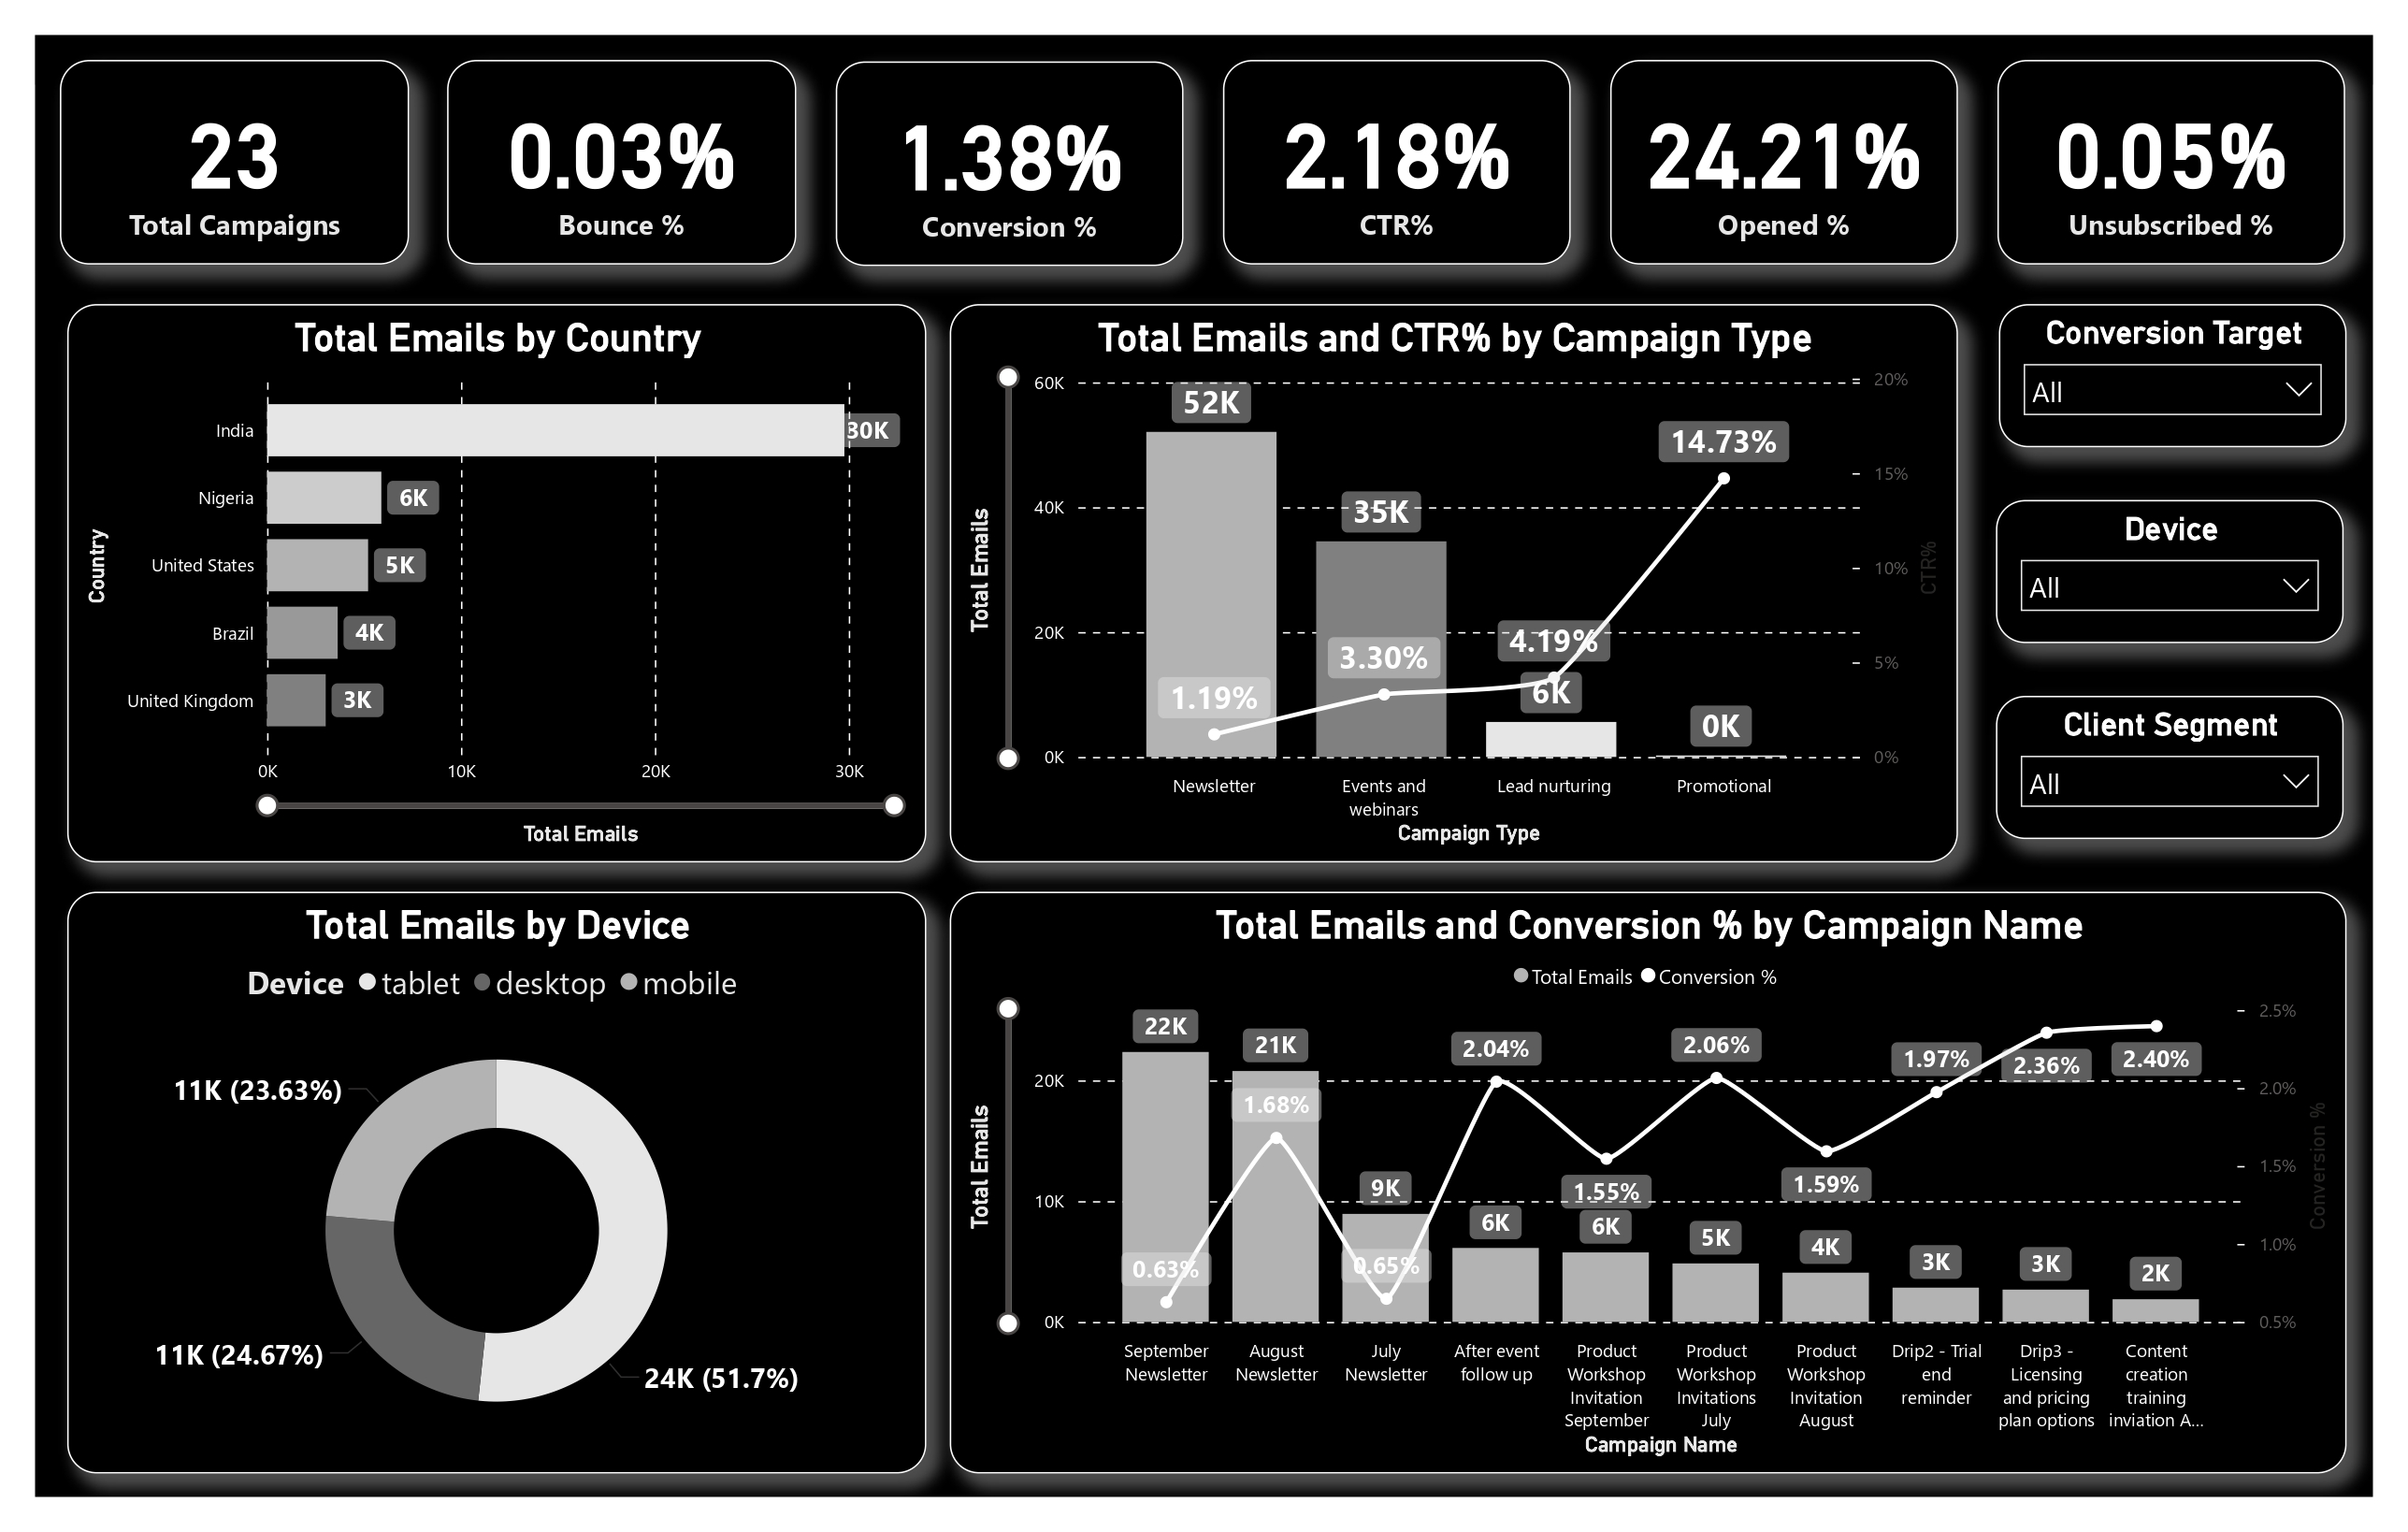

The page's visual inventory and layout, read from the dashboard file:
{"tool":"powerbi","page":{"name":"Overview","canvas":[1600,1000],"ordinal":0},"visuals":[{"type":"card","fields":{"Values":["_Measure.Total Campaigns"]},"box":[17.2,17.2,238.4,140],"z":0},{"type":"card","fields":{"Values":["_Measure.Bounce %"]},"box":[282.3,17.2,238.4,140],"z":1000},{"type":"card","fields":{"Values":["_Measure.Conversion %"]},"box":[547.5,17.8,238.4,140],"z":2000},{"type":"card","fields":{"Values":["_Measure.CTR%"]},"box":[812.7,17.2,238.4,140],"z":3000},{"type":"card","fields":{"Values":["_Measure.Opened %"]},"box":[1077.9,17.2,238.4,140],"z":4000},{"type":"card","fields":{"Values":["_Measure.Unsubscribed %"]},"box":[1343.1,17.2,238.4,140],"z":5000},{"type":"clusteredBarChart","fields":{"Y":["_Measure.Total Emails"],"Category":["email_data.Country"]},"box":[22,184,588,382],"z":6000},{"type":"lineStackedColumnComboChart","fields":{"Category":["email_data.Campaign Type"],"Y":["_Measure.Total Emails"],"Y2":["_Measure.CTR%"]},"box":[626,184,690,382],"z":7000},{"type":"slicer","title":"Conversion Target","fields":{"Values":["email_data.Conversion Target"]},"box":[1344,184,238,98],"z":8000},{"type":"slicer","title":"Device","fields":{"Values":["email_data.Device"]},"box":[1342,318,238,98],"z":9000},{"type":"slicer","title":"Client Segment","fields":{"Values":["email_data.Client Segment"]},"box":[1342,452,238,98],"z":10000},{"type":"donutChart","fields":{"Y":["_Measure.Total Emails"],"Category":["email_data.Device"]},"box":[22,586,588,398],"z":11000},{"type":"lineClusteredColumnComboChart","fields":{"Y":["_Measure.Total Emails"],"Category":["email_data.Campaign Name"],"Y2":["_Measure.Conversion %"]},"box":[626,586,956,398],"z":12000}]}

Visuals, with their boxes in screenshot pixels (x1, y1, x2, y2):
card - _Measure.Total Campaigns: 60:60:409:265
card - _Measure.Bounce %: 448:60:796:265
card - _Measure.Conversion %: 835:61:1183:266
card - _Measure.CTR%: 1222:60:1571:265
card - _Measure.Opened %: 1610:60:1958:265
card - _Measure.Unsubscribed %: 1997:60:2346:265
clusteredBarChart - _Measure.Total Emails x email_data.Country: 67:304:927:862
lineStackedColumnComboChart - email_data.Campaign Type x _Measure.Total Emails: 950:304:1958:862
"Conversion Target" slicer: 1999:304:2346:447
"Device" slicer: 1996:500:2343:643
"Client Segment" slicer: 1996:696:2343:839
donutChart - _Measure.Total Emails x email_data.Device: 67:891:927:1473
lineClusteredColumnComboChart - _Measure.Total Emails x email_data.Campaign Name: 950:891:2346:1473
